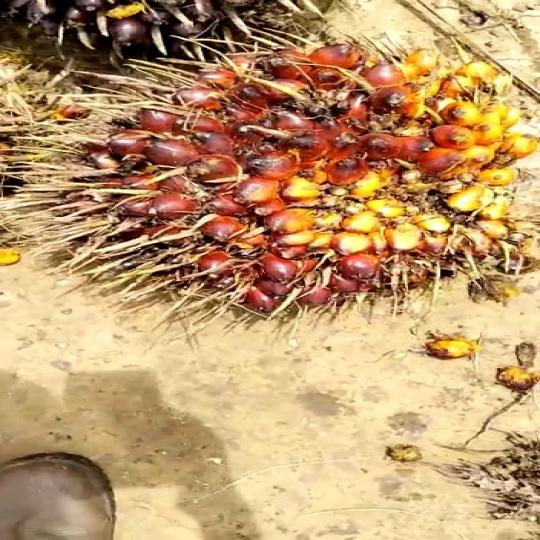masak: (31, 32, 540, 312)
